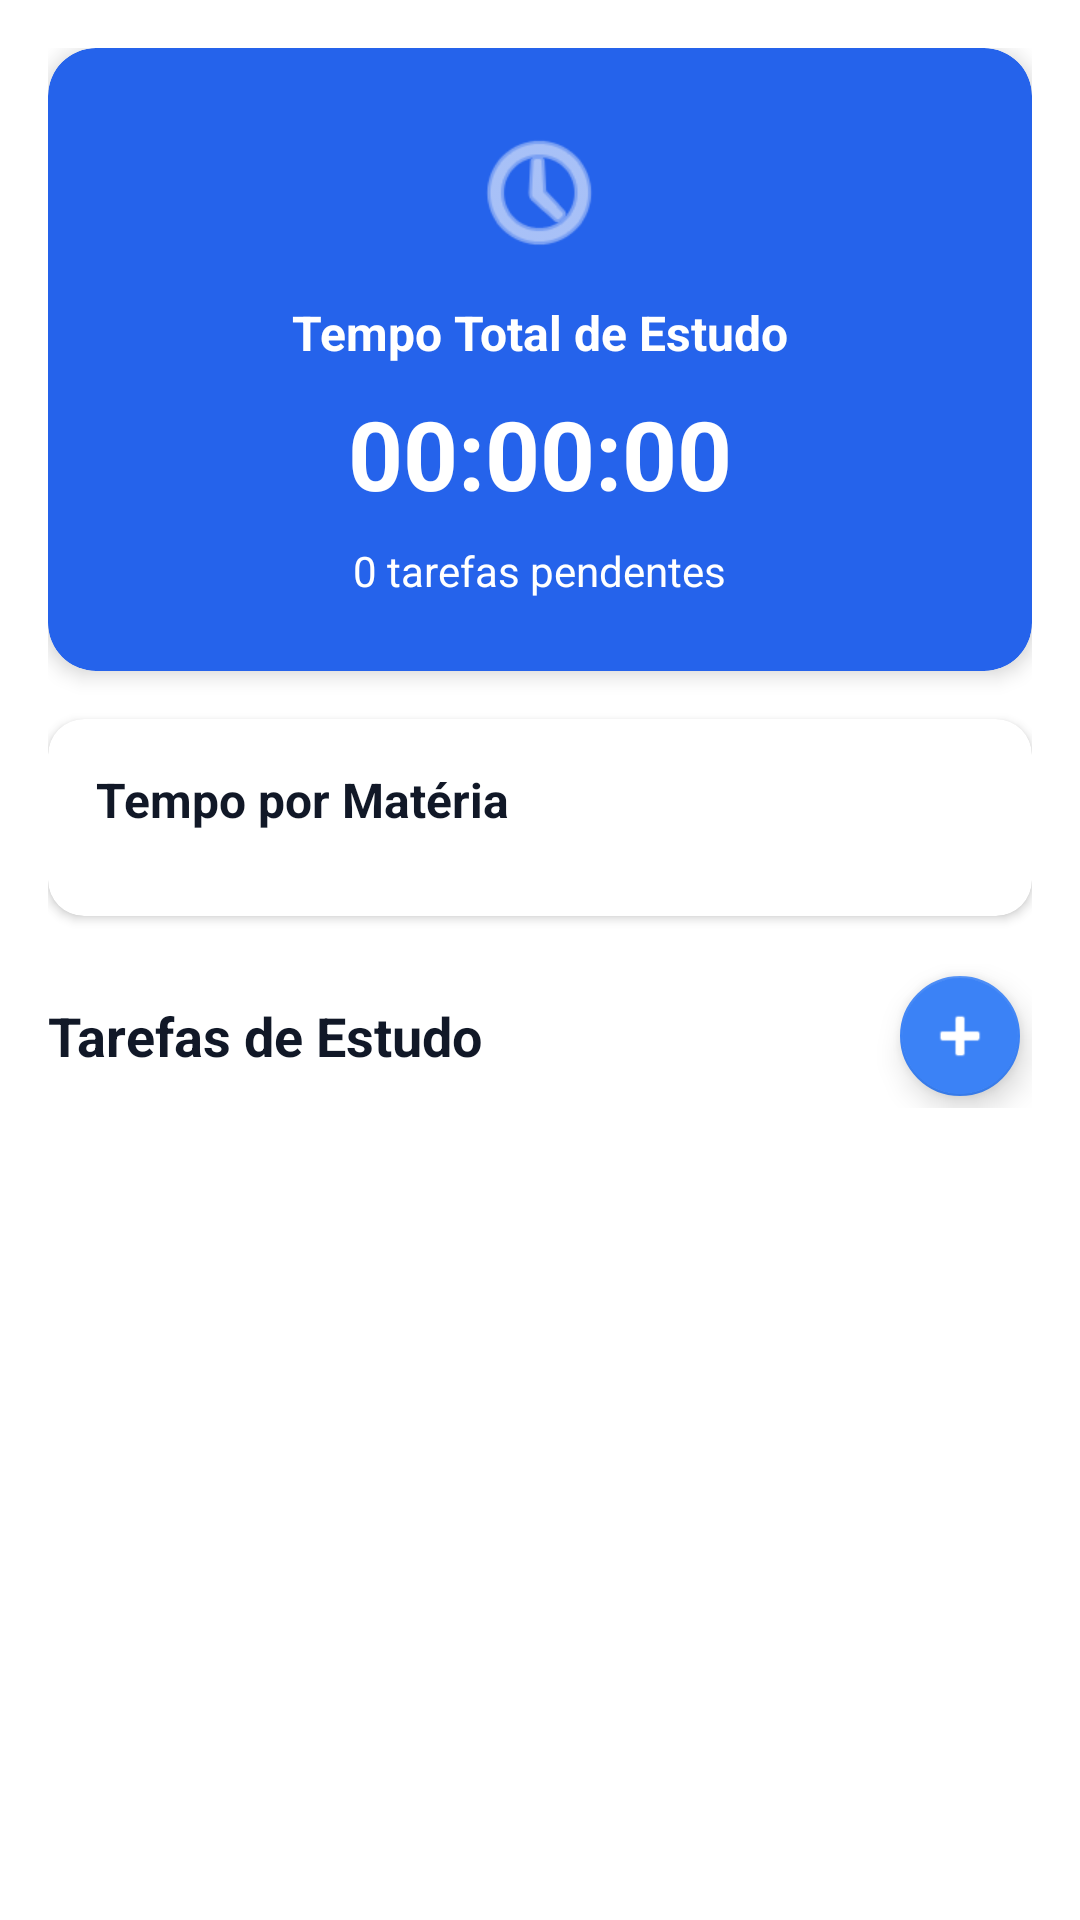

Where to tap for icons on this 1080*1920 app screen, as (x=x, y=y):
Adicionar Tarefa: (x=961, y=1039)
recent history: (x=539, y=193)
